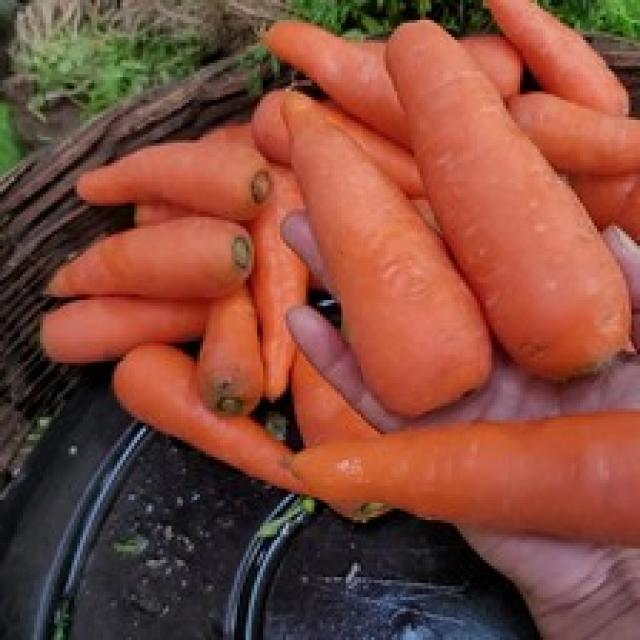Fresh_Carrot: (394, 17, 632, 387), (281, 95, 494, 418), (287, 415, 640, 550), (110, 348, 326, 505), (266, 25, 425, 156), (42, 227, 254, 303), (21, 273, 193, 362), (506, 83, 638, 177), (252, 158, 304, 392), (83, 148, 274, 211), (203, 275, 262, 415), (300, 355, 371, 448)
